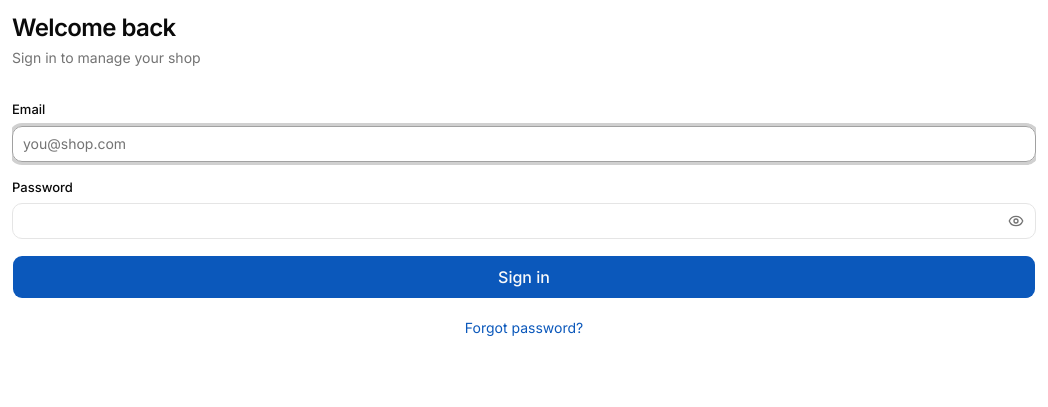
Test case: login form › shows the server’s message for a failed login
Type "a@b.co" into the field labelled "Email" at (524, 144), box [12,126,1036,162]
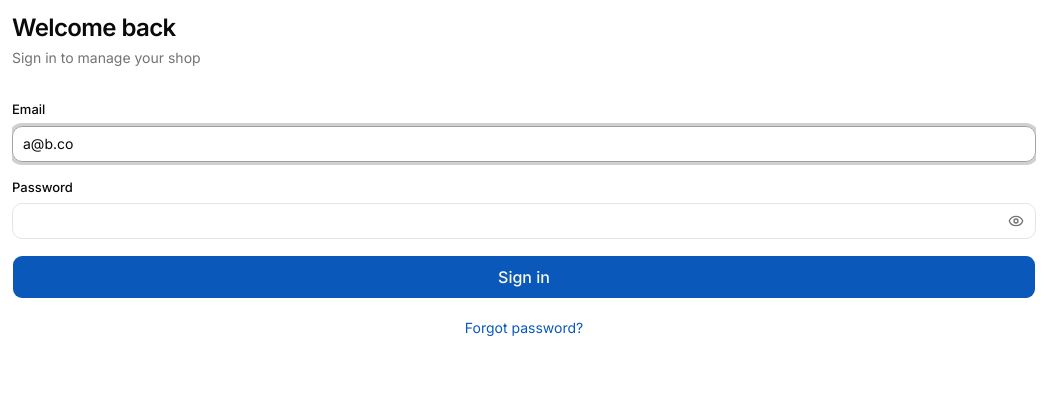
Type "wrong" into the password field labelled "Password" at (524, 221), box [12,203,1036,239]
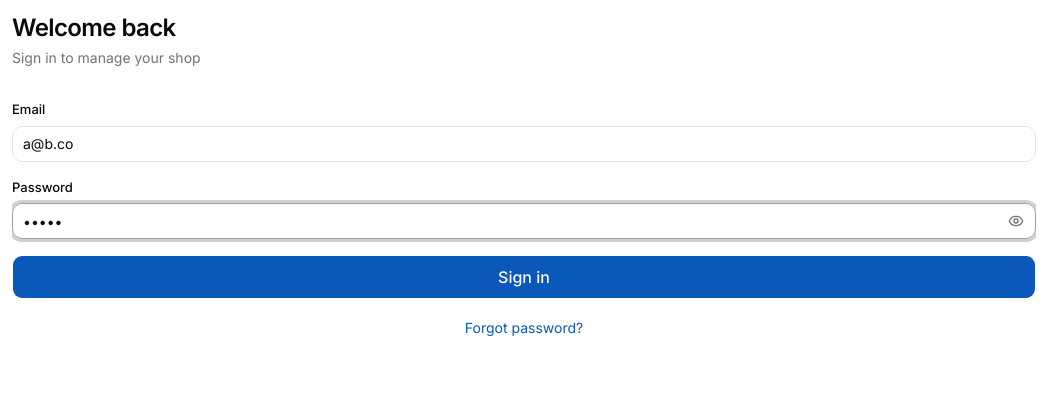
Click the button "Sign in" at (524, 277), box [12,255,1036,299]
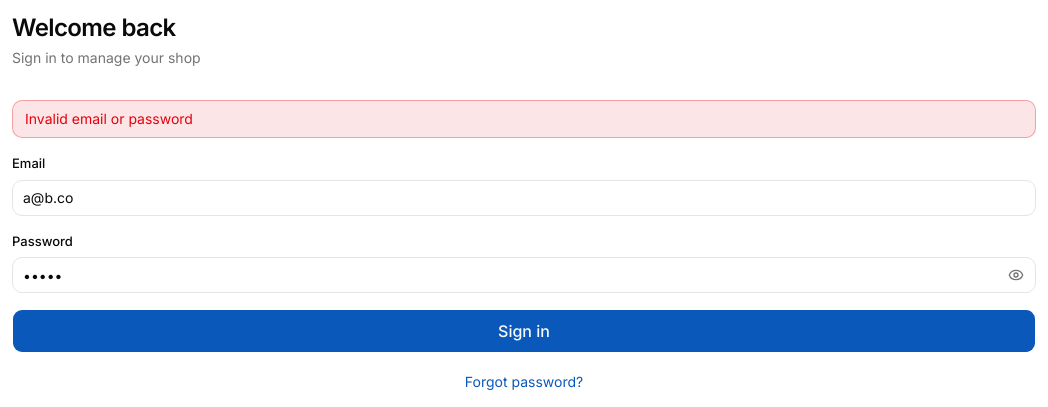
Expected: the message reads "Invalid email or password", [25,110,193,127]
